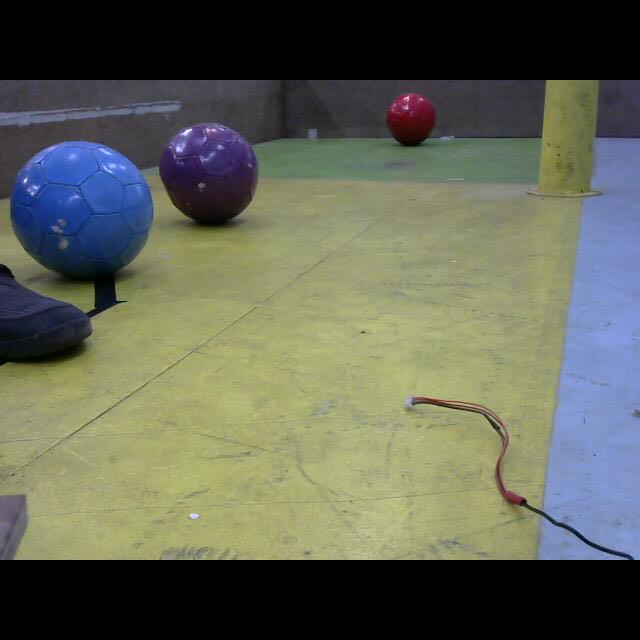B: (9, 142, 154, 278)
P: (160, 121, 260, 223)
R: (387, 92, 438, 148)
